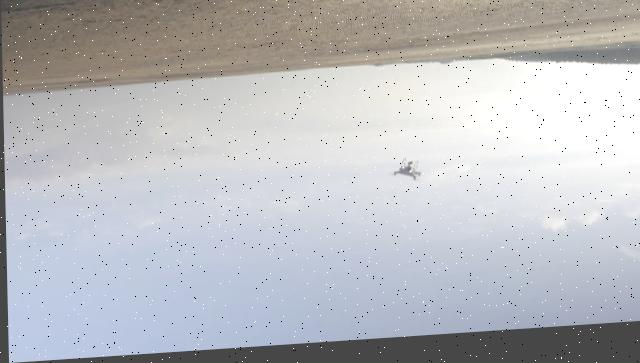drone: (387, 163, 422, 189)
